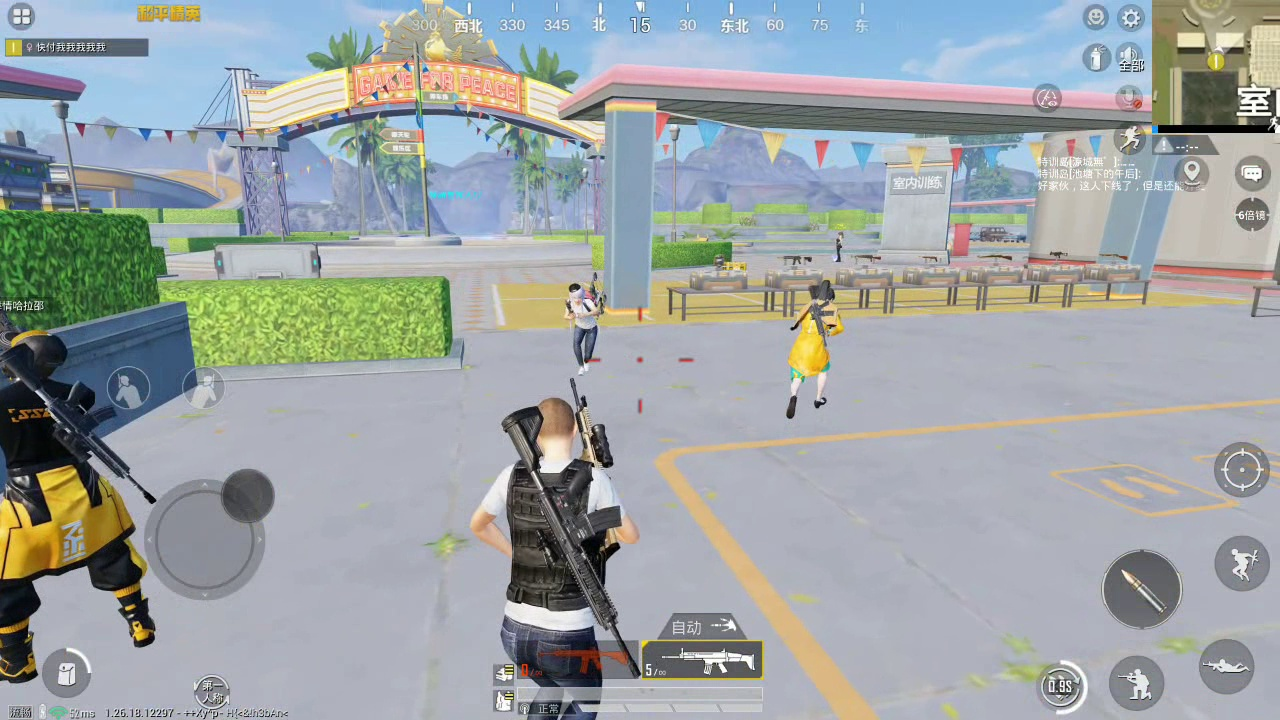enemy: (1, 331, 154, 686), (786, 281, 831, 412), (565, 283, 602, 374)
